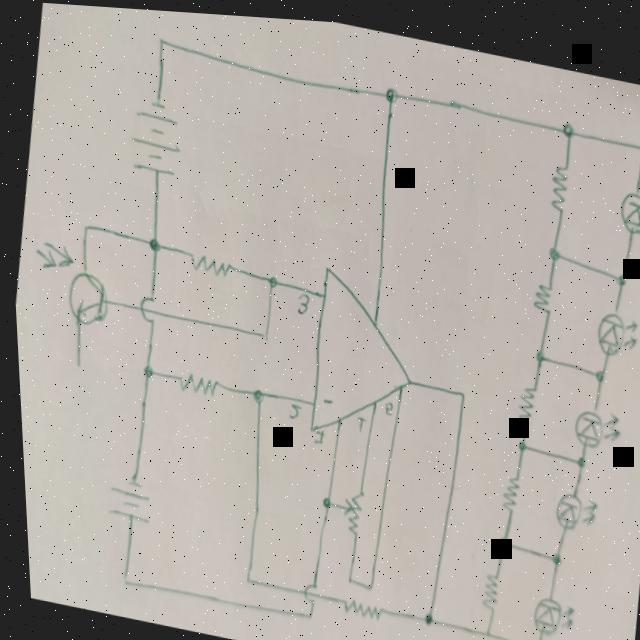crossover: (132, 289, 154, 326), (292, 575, 313, 602)
diode: (586, 298, 638, 357), (563, 395, 617, 447), (521, 581, 571, 637), (544, 482, 594, 531), (611, 179, 640, 233)
junction: (136, 224, 165, 261), (256, 261, 283, 298), (311, 483, 329, 510), (540, 237, 563, 258), (609, 260, 627, 285), (487, 525, 506, 548), (380, 80, 399, 101), (244, 382, 262, 404), (540, 541, 558, 563), (413, 602, 430, 625), (567, 444, 583, 468), (527, 338, 544, 360), (586, 358, 603, 380), (507, 431, 524, 451), (557, 114, 574, 132), (136, 359, 151, 379), (254, 325, 267, 342), (154, 31, 167, 48), (112, 570, 124, 588), (451, 380, 463, 397), (473, 618, 486, 633), (77, 221, 89, 235), (338, 567, 349, 582), (236, 569, 247, 583), (358, 575, 369, 588), (633, 132, 640, 150), (298, 605, 307, 617), (524, 632, 536, 640)
resistor: (325, 472, 363, 536), (170, 366, 216, 400), (543, 155, 572, 207), (182, 248, 229, 280), (330, 591, 378, 621), (508, 371, 534, 421), (493, 466, 517, 509), (471, 566, 495, 608), (525, 272, 552, 309)
source: (121, 93, 186, 179), (97, 471, 148, 525)
terminal: (67, 356, 79, 372)
text: (290, 285, 307, 313), (282, 399, 298, 418), (315, 389, 331, 407), (349, 410, 362, 429), (308, 422, 320, 441), (377, 393, 389, 412)
transistor: (19, 238, 112, 329)
